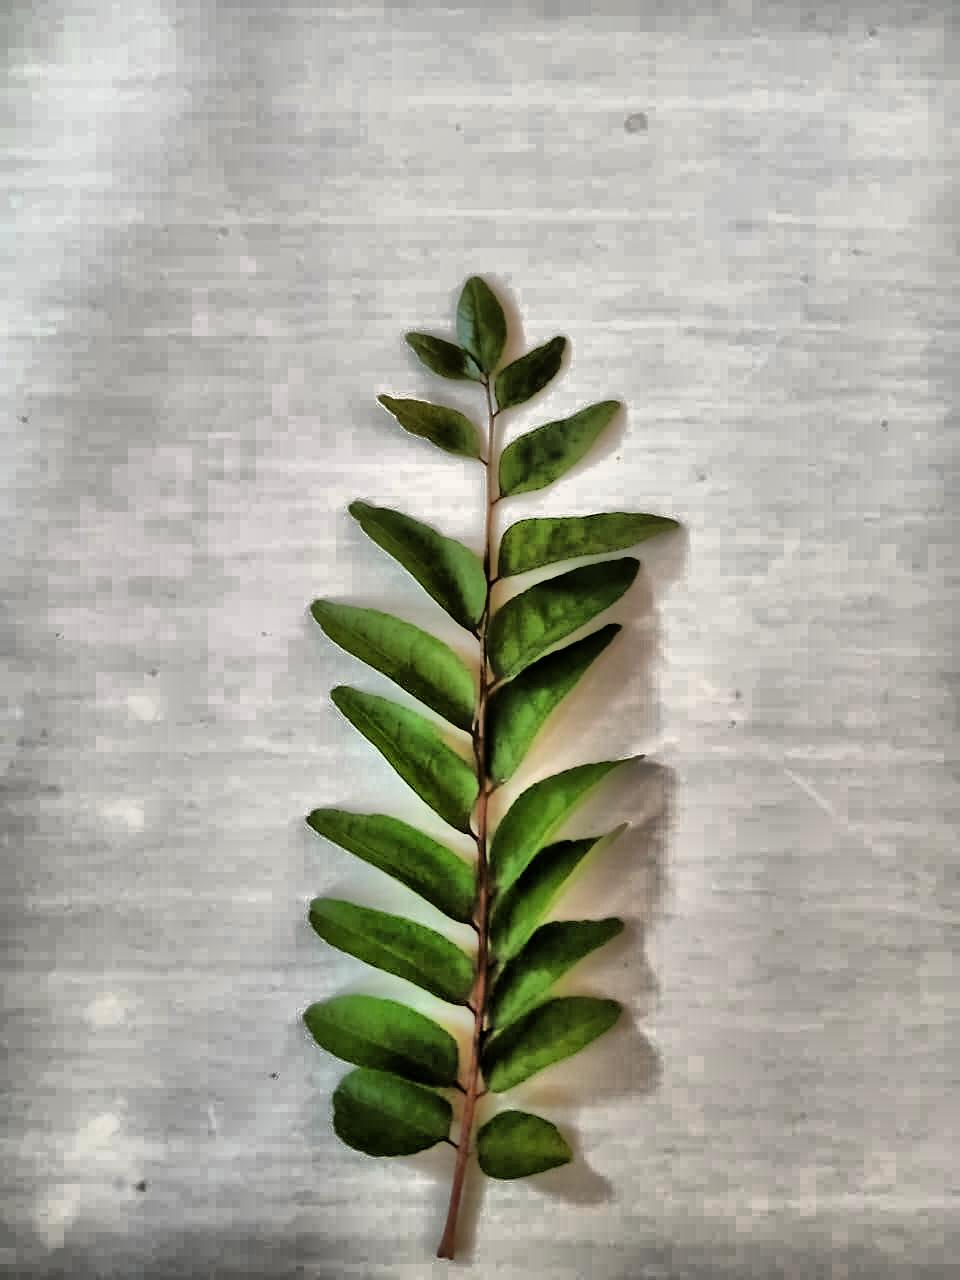daun kari: (304, 277, 675, 1257)
